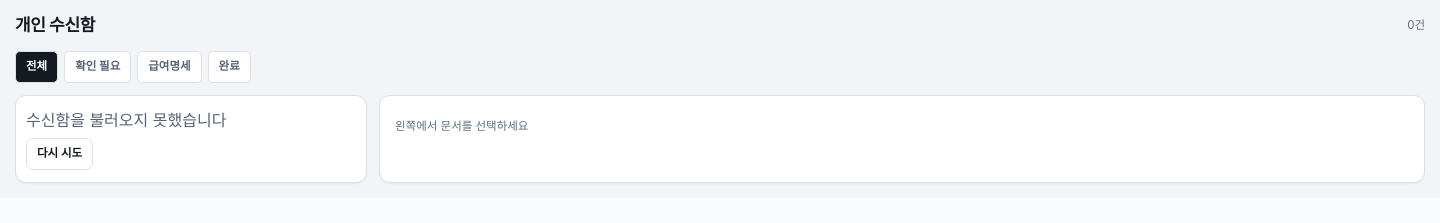
Test: InboxBody › surfaces a list error with a retry
The width and height of the screenshot is (1440, 223).
Click the button "다시 시도" at (60, 154), box [26,138,93,170]
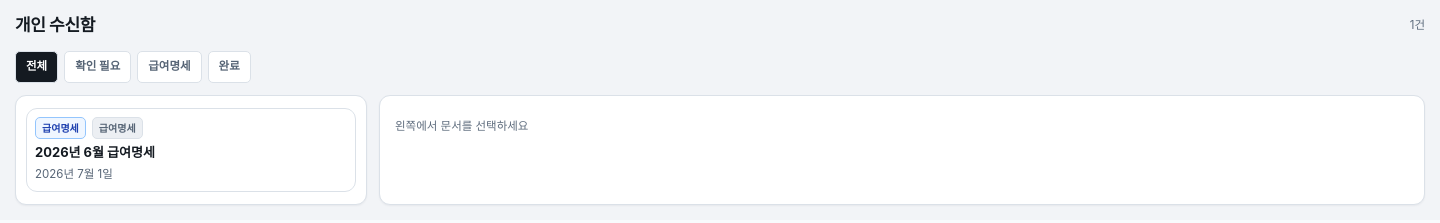
Now the text "2026년 6월 급여명세" is shown, box [35,144,155,160]
